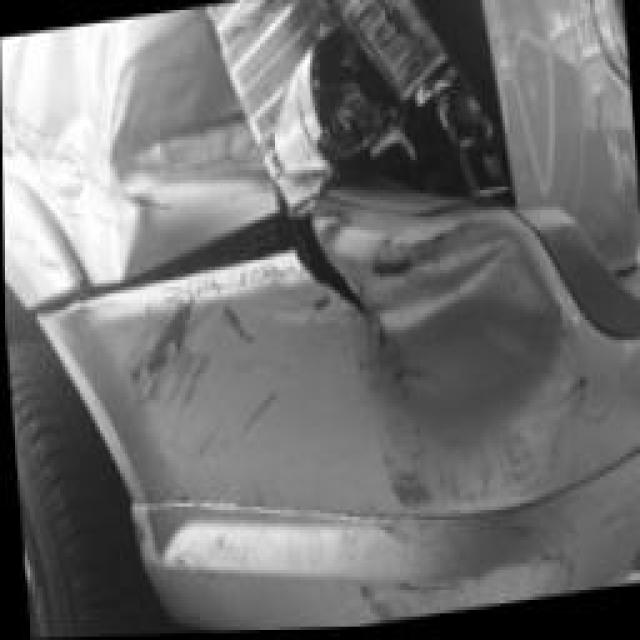Bumper: (32, 187, 640, 633)
Fender: (0, 7, 278, 305)
Light: (203, 0, 512, 208)
